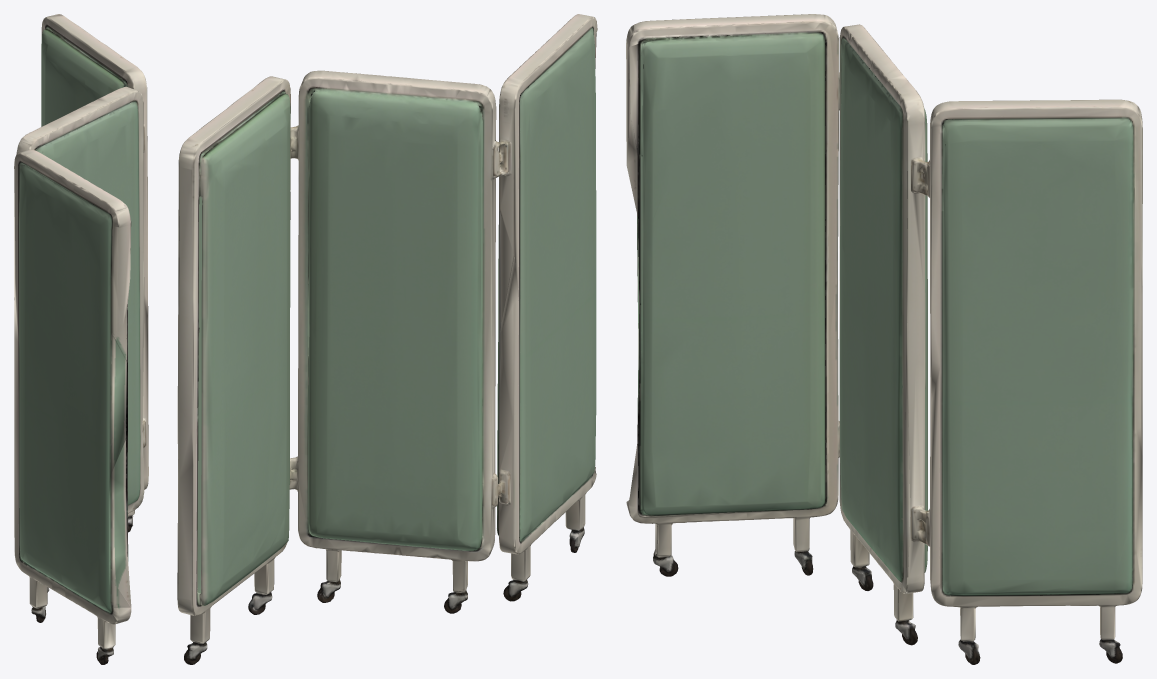
3 renders of one model, left to right at view 1: azimuth 30°, elevation 25°; view 2: azimuth 150°, elevation 25°; view 3: azimuth 270°, elevation 25°, orthographic. The views are drawn at different scales.
Parts seen in each view (by area): view 1: repaired; view 2: repaired; view 3: repaired.
Boxes of the visible parts, <box> form: repaired: <box>14,14,148,664</box>; repaired: <box>177,14,597,664</box>; repaired: <box>626,14,1142,664</box>.
Size of the model in its own units: 0.4028 by 1 by 0.8402.
Materials: 1 (1 with a texture image).
